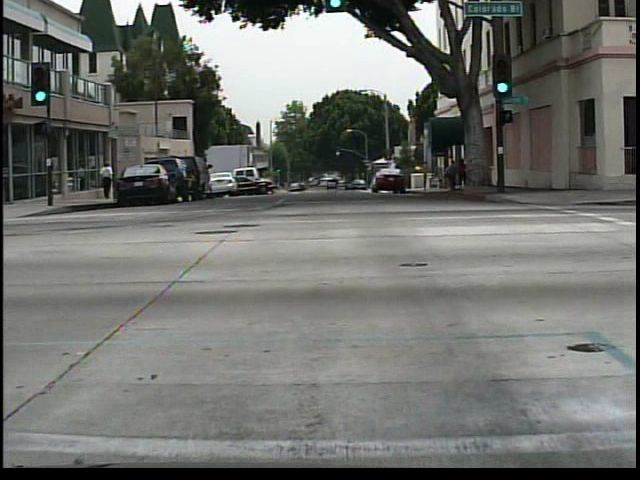person: (452, 152, 477, 200), (99, 154, 116, 202), (442, 159, 460, 193)
